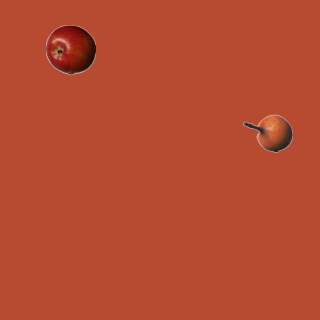Apple Braeburn: (45, 24, 95, 74)
Granadilla: (242, 108, 292, 158)
